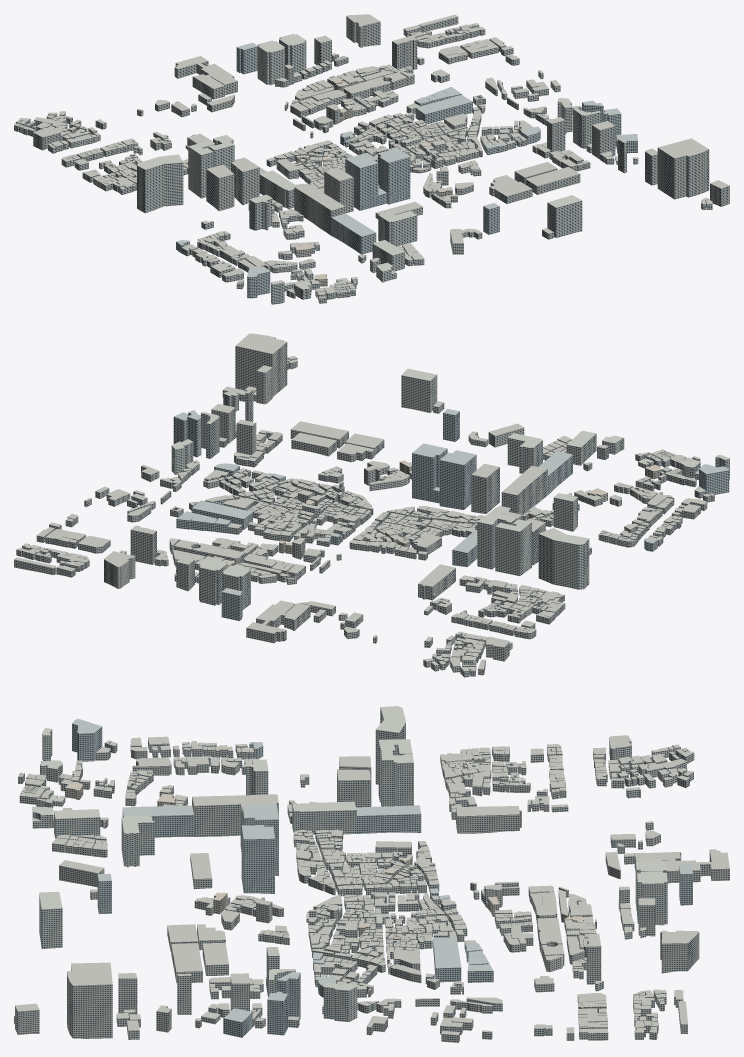
File: city_-2_-3.glb
The picture shows the model from 3 angles, top to bottom: view 1: azimuth 30°, elevation 25°; view 2: azimuth 150°, elevation 25°; view 3: azimuth 270°, elevation 25°; orthographic projection. The views are drawn at different scales.
Bounding box in the file's own units: 1021 × 104 × 1068.
5 materials, 5 textured.
